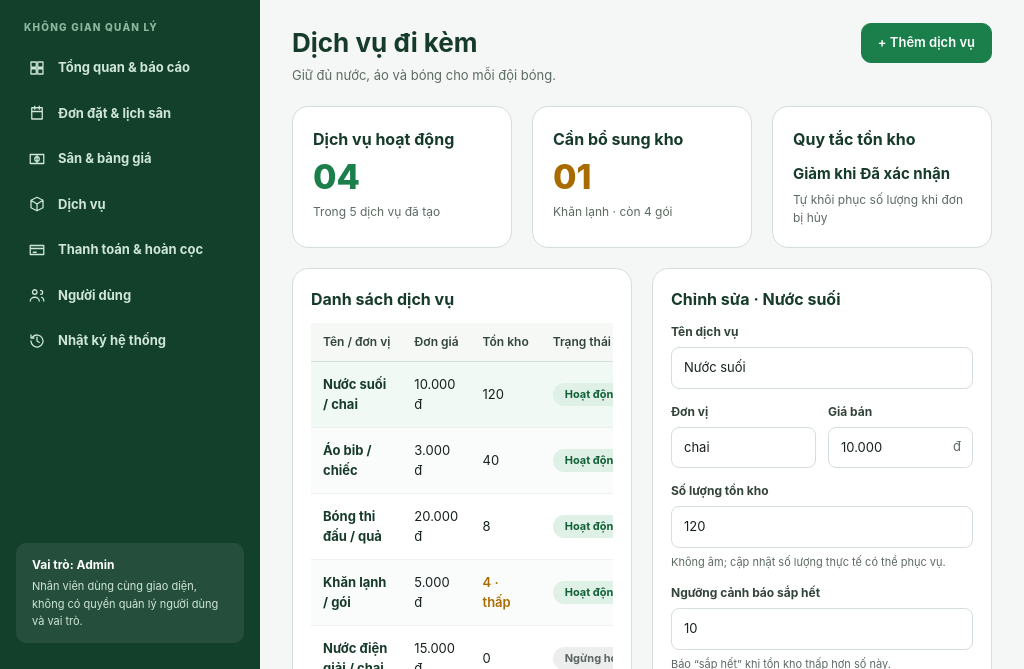
Test: Admin Dịch vụ - sửa và thêm › giá âm → báo lỗi, KHÔNG gọi server
Expected: the heading "Chỉnh sửa · Nước suối" is shown, [671,289,840,309]
Replace the text in the field labelled "Giá bán" with "-500": (900, 447) [828,426,973,468]
(page scrolled)
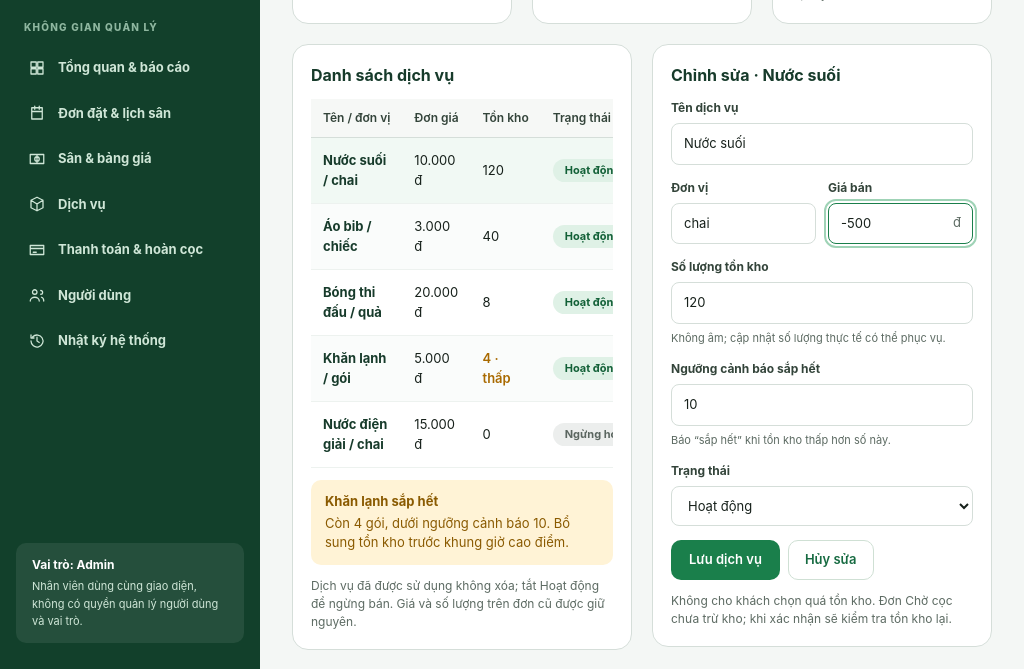
Click the button "Lưu dịch vụ": (725, 560) [671,540,780,580]
(page scrolled)
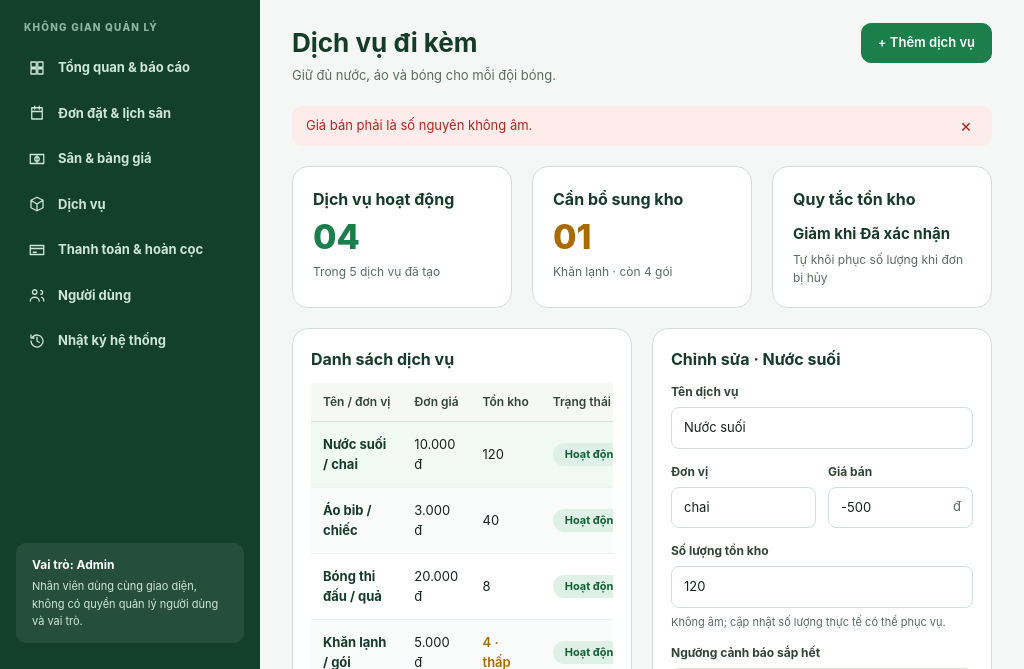
Expected: the text "Giá bán phải là số nguyên không âm." is shown, [306,116,532,136]
